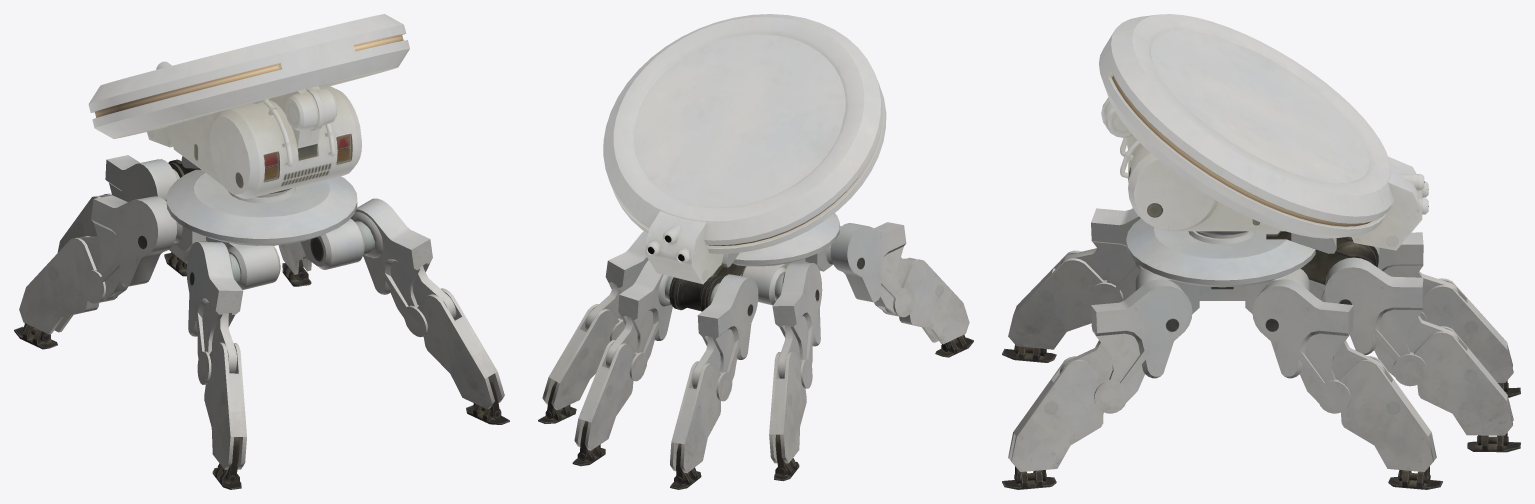
Rendered from kamdo-meshopt.glb.
The picture shows the model from 3 angles, left to right: view 1: azimuth 30°, elevation 25°; view 2: azimuth 150°, elevation 25°; view 3: azimuth 270°, elevation 25°; orthographic projection. The views are drawn at different scales.
Visible parts, largest first — view 1: body.001, head.001, stripe.001; view 2: head.001, body.001; view 3: body.001, head.001, stripe.001.
Boxes of the visible parts, box(x1,y1,x2,y2) form: body.001: box(14, 155, 509, 489); head.001: box(88, 14, 409, 198); stripe.001: box(95, 34, 403, 117); head.001: box(603, 14, 886, 284); body.001: box(538, 213, 973, 489); body.001: box(1002, 208, 1520, 489); head.001: box(1099, 14, 1428, 250); stripe.001: box(1112, 75, 1371, 226).
Size of the model in its own units: 2.86 by 3.68 by 4.53.
3 materials, 3 textured.
